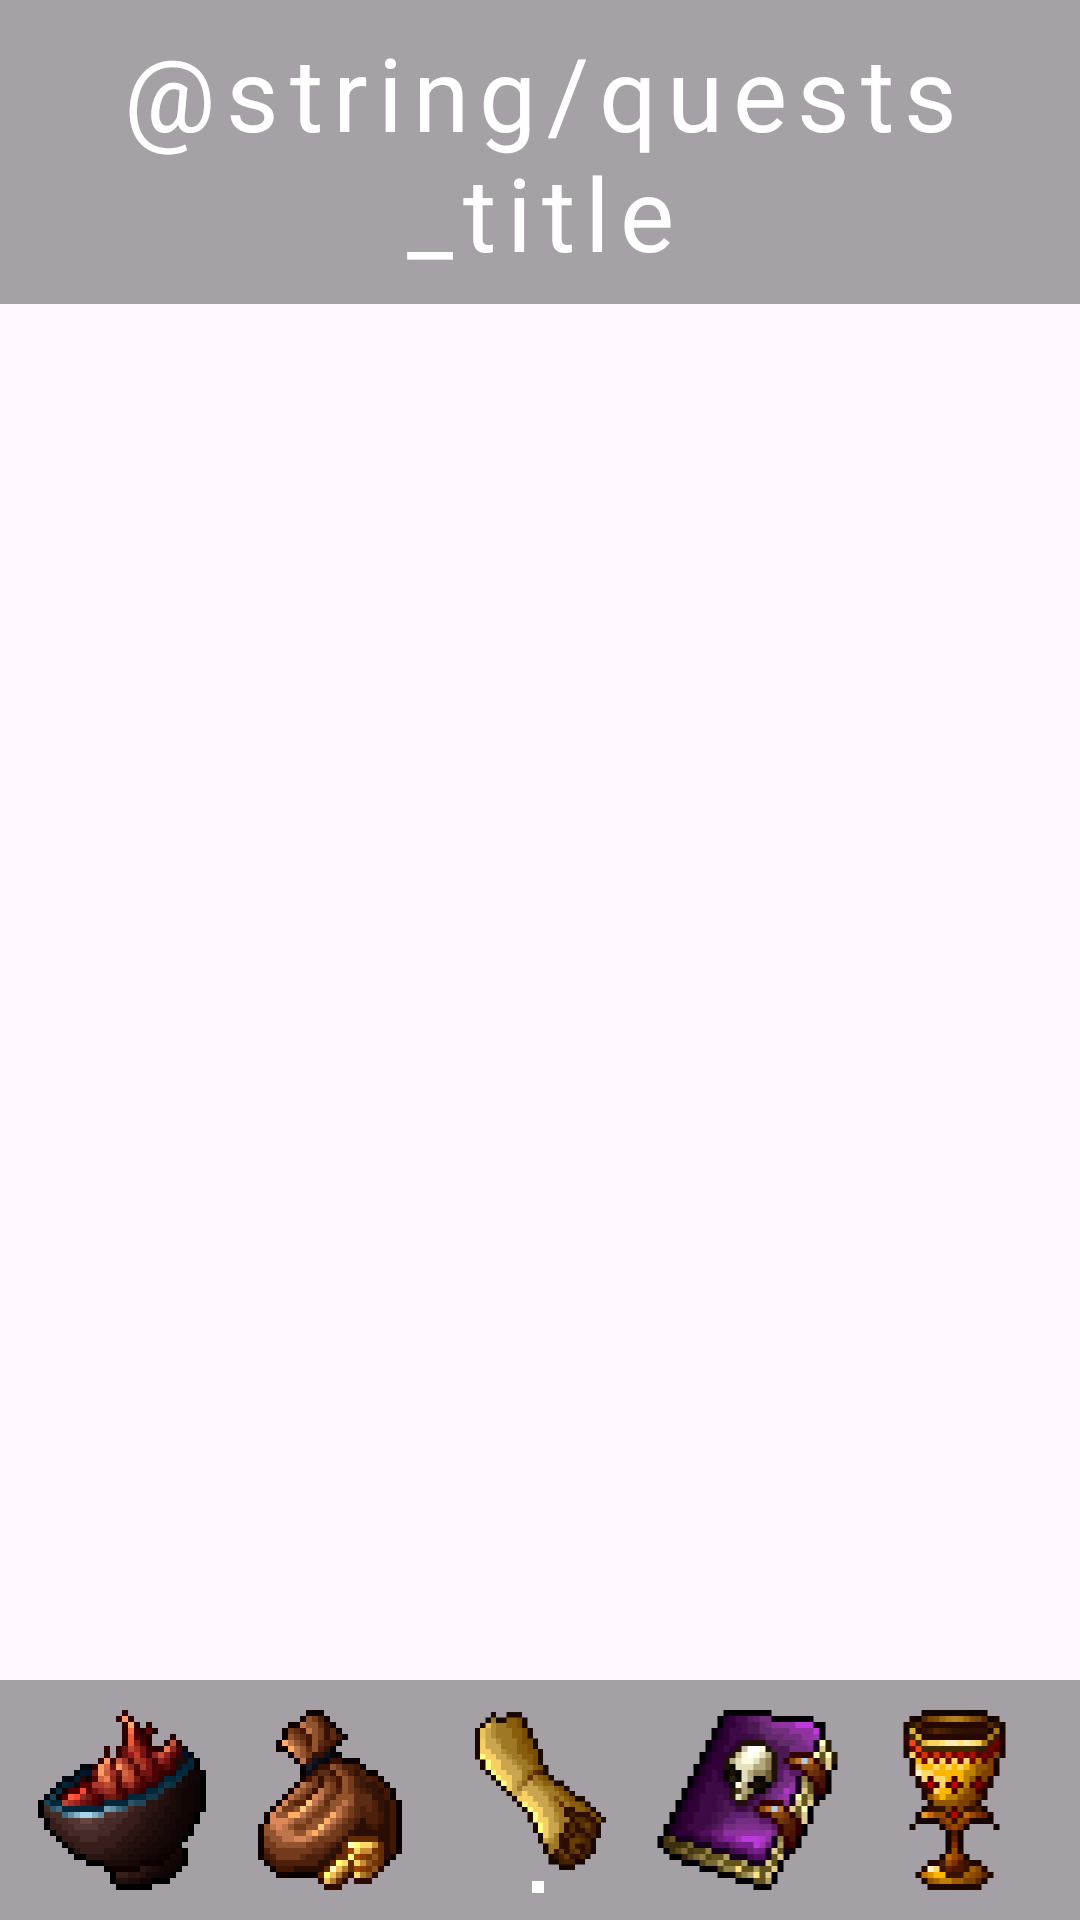

Locate icon controls on the screen. Image size 1080x1920, boxes as (x1, y1, x2, y2).
market: (258, 1710, 402, 1890)
quests: (475, 1712, 606, 1870)
stats: (657, 1710, 838, 1890)
trophies: (903, 1710, 1006, 1890)
